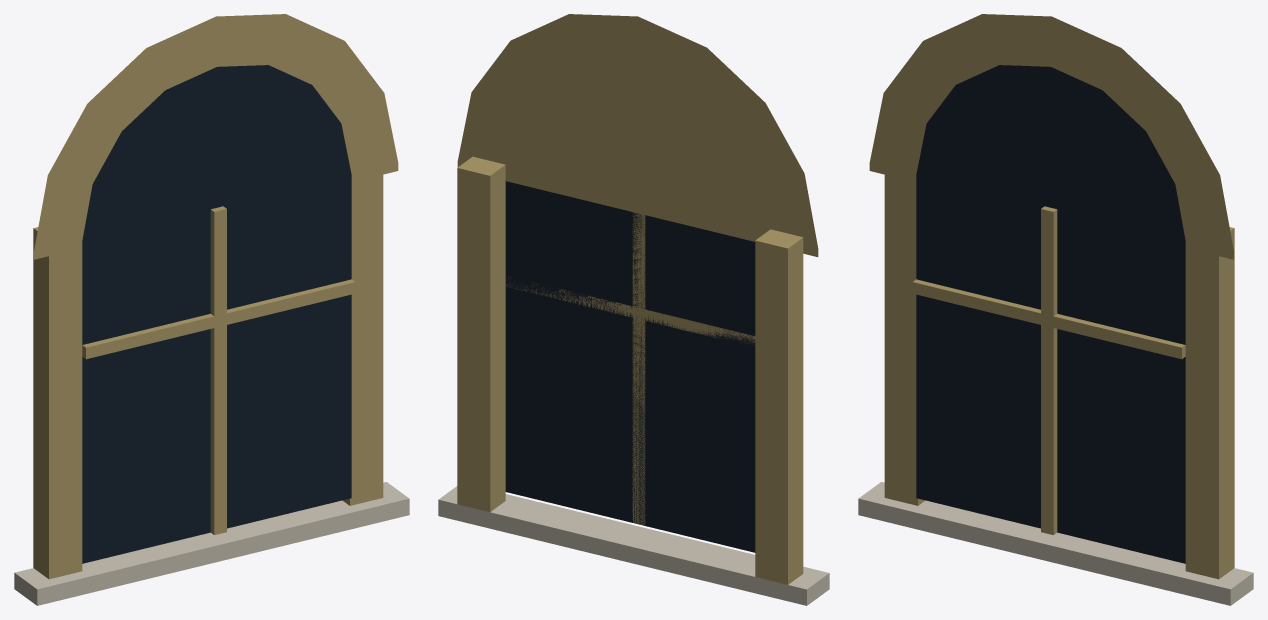
File: jendela-lengkung.glb
3 renders of one model, left to right at view 1: azimuth 30°, elevation 25°; view 2: azimuth 150°, elevation 25°; view 3: azimuth 330°, elevation 25°, orthographic.
Visible parts, largest first — view 1: potongan_jendela-lengkung; view 2: potongan_jendela-lengkung; view 3: potongan_jendela-lengkung.
Part boxes in pixels (box(x1,y1,x2,y2)): potongan_jendela-lengkung: box(14, 14, 409, 605); potongan_jendela-lengkung: box(438, 14, 829, 605); potongan_jendela-lengkung: box(858, 14, 1253, 605).
Size of the model in its own units: 4.7 by 6.5 by 0.5.
